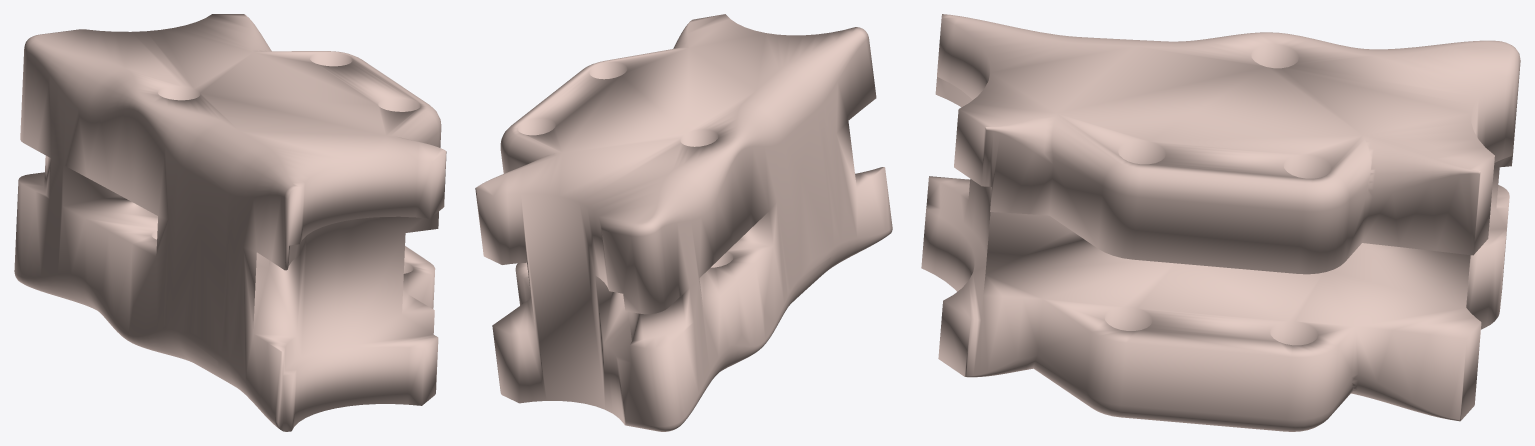
Rendered from index_mlp_1.obj.
3 views of the same model, side by side, from view 1: azimuth 30°, elevation 25°; view 2: azimuth 150°, elevation 25°; view 3: azimuth 270°, elevation 25° (orthographic). The views are drawn at different scales.
Bounding box in the file's own units: 14.65 × 14.38 × 24.84.
